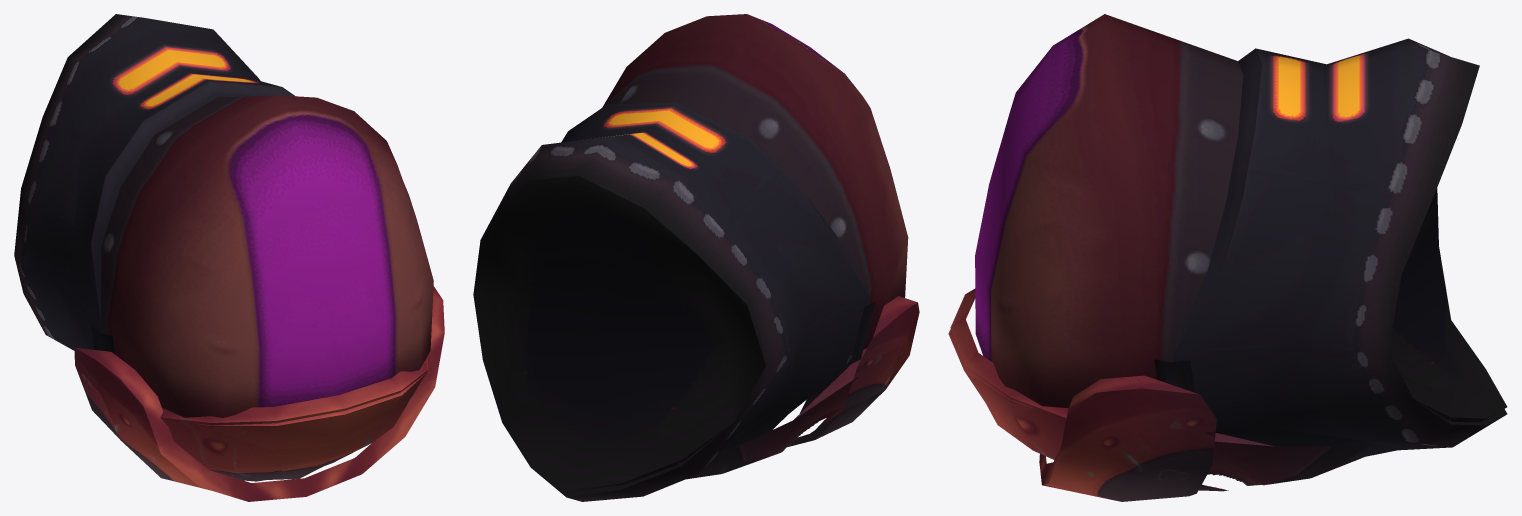
The model's file is model_vol.glb.
3 views of the same model, side by side, from view 1: azimuth 30°, elevation 25°; view 2: azimuth 150°, elevation 25°; view 3: azimuth 270°, elevation 25° (orthographic). The views are drawn at different scales.
Parts seen in each view (by area): view 1: shroud.model_vol-MeshSets[mesh_stalker_1].Mesh[0], shroud.model_vol-MeshSets[mesh_stalker_2].Mesh[0], shroud.model_vol-MeshSets[mesh_stalker_3].Mesh[0]; view 2: shroud.model_vol-MeshSets[mesh_stalker_1].Mesh[0], shroud.model_vol-MeshSets[mesh_stalker_2].Mesh[0], shroud.model_vol-MeshSets[mesh_stalker_3].Mesh[0]; view 3: shroud.model_vol-MeshSets[mesh_stalker_1].Mesh[0], shroud.model_vol-MeshSets[mesh_stalker_2].Mesh[0], shroud.model_vol-MeshSets[mesh_stalker_3].Mesh[0].
Boxes of the visible parts, bbox=[...] form: shroud.model_vol-MeshSets[mesh_stalker_1].Mesh[0]: bbox=[14, 14, 444, 501]; shroud.model_vol-MeshSets[mesh_stalker_2].Mesh[0]: bbox=[21, 70, 426, 480]; shroud.model_vol-MeshSets[mesh_stalker_3].Mesh[0]: bbox=[160, 356, 427, 481]; shroud.model_vol-MeshSets[mesh_stalker_1].Mesh[0]: bbox=[473, 14, 919, 501]; shroud.model_vol-MeshSets[mesh_stalker_2].Mesh[0]: bbox=[483, 102, 875, 491]; shroud.model_vol-MeshSets[mesh_stalker_3].Mesh[0]: bbox=[686, 347, 867, 479]; shroud.model_vol-MeshSets[mesh_stalker_1].Mesh[0]: bbox=[975, 14, 1507, 501]; shroud.model_vol-MeshSets[mesh_stalker_2].Mesh[0]: bbox=[948, 48, 1507, 442]; shroud.model_vol-MeshSets[mesh_stalker_3].Mesh[0]: bbox=[950, 288, 1368, 491].
Bounding box in the file's own units: 0.506 × 0.5719 × 0.6362.
2 materials, 2 textured.
